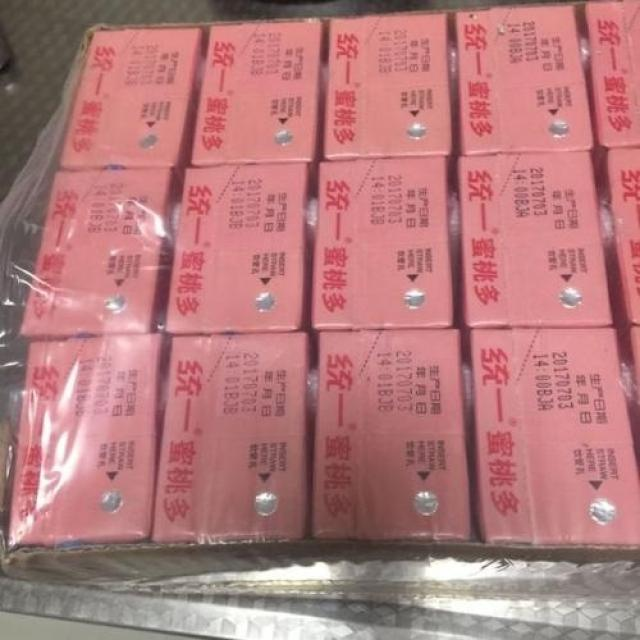box: (470, 327, 639, 548), (4, 331, 163, 551), (150, 333, 315, 541), (310, 328, 471, 539), (21, 168, 185, 338), (457, 152, 613, 325), (309, 152, 457, 327), (57, 28, 208, 186), (168, 161, 306, 329), (454, 5, 596, 154), (194, 18, 322, 167), (320, 14, 452, 158), (592, 148, 639, 336), (586, 3, 639, 146)
